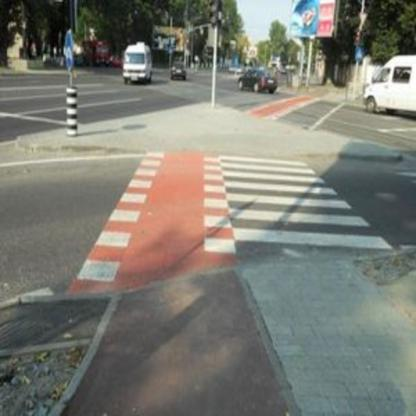Car: (236, 65, 278, 93), (170, 63, 186, 83)
